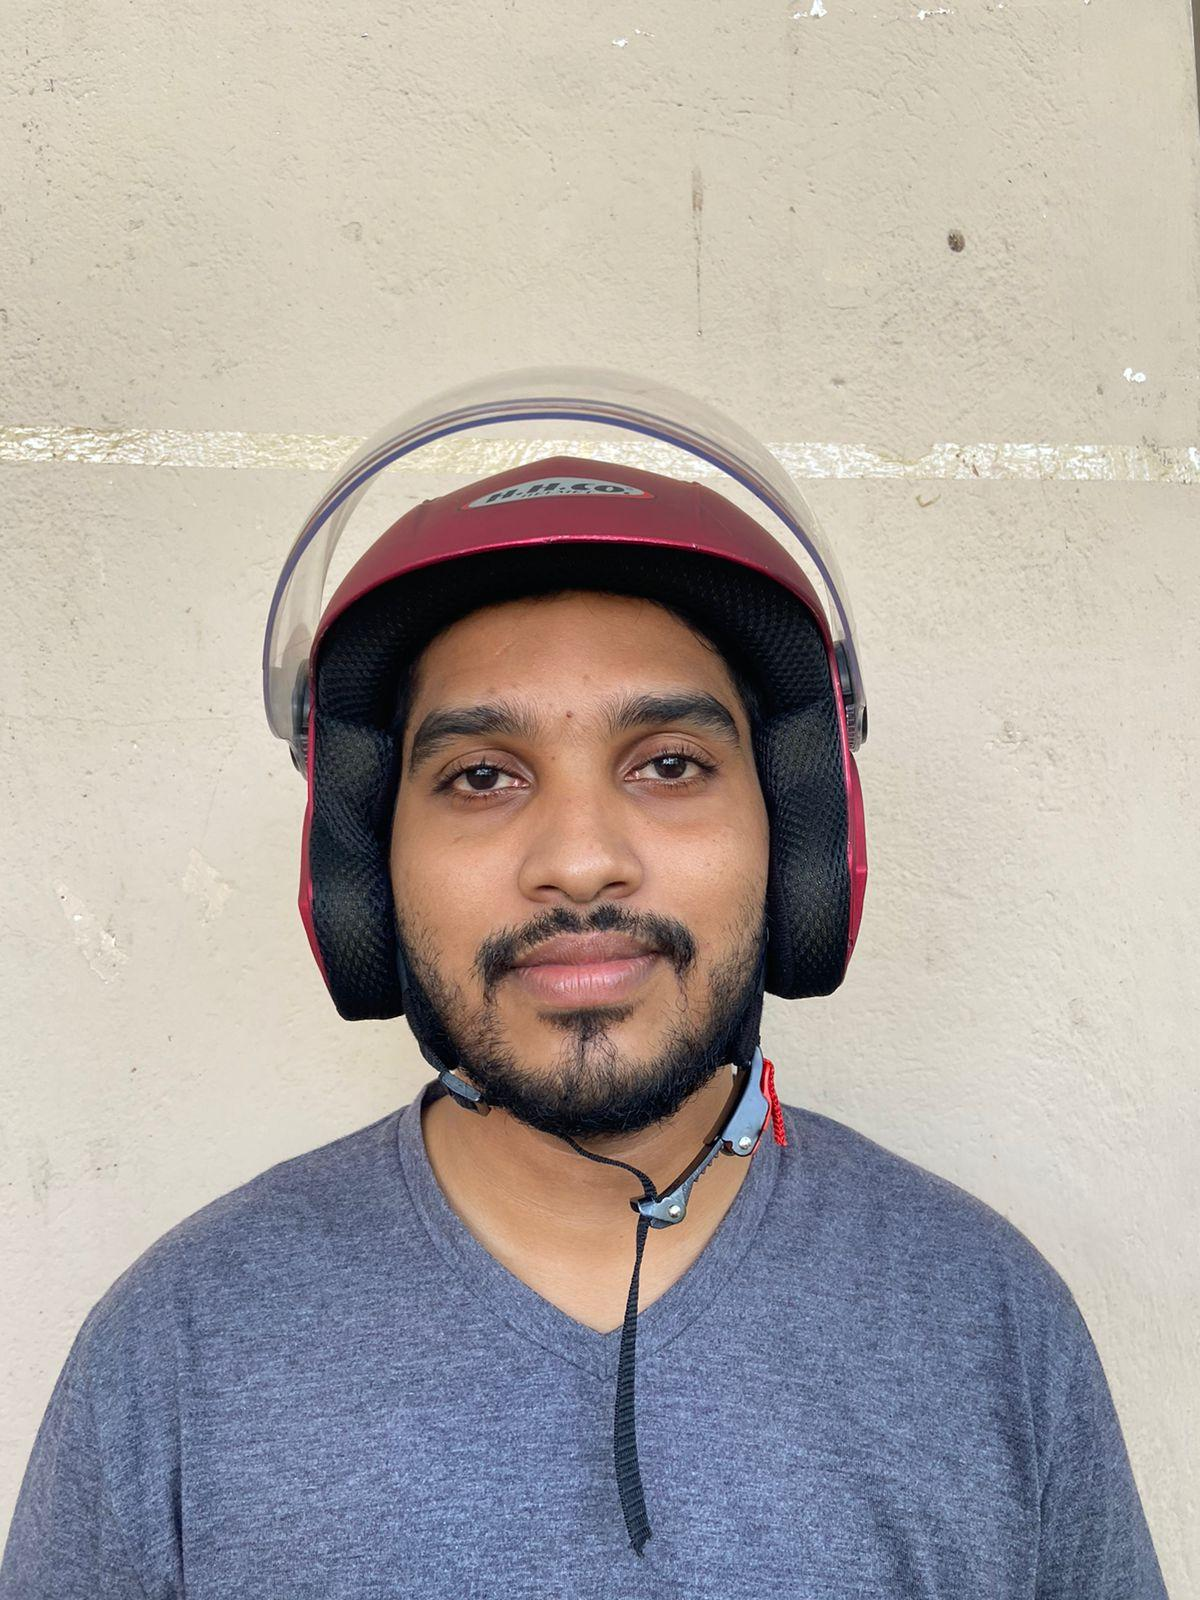helmet: (256, 367, 876, 1026)
